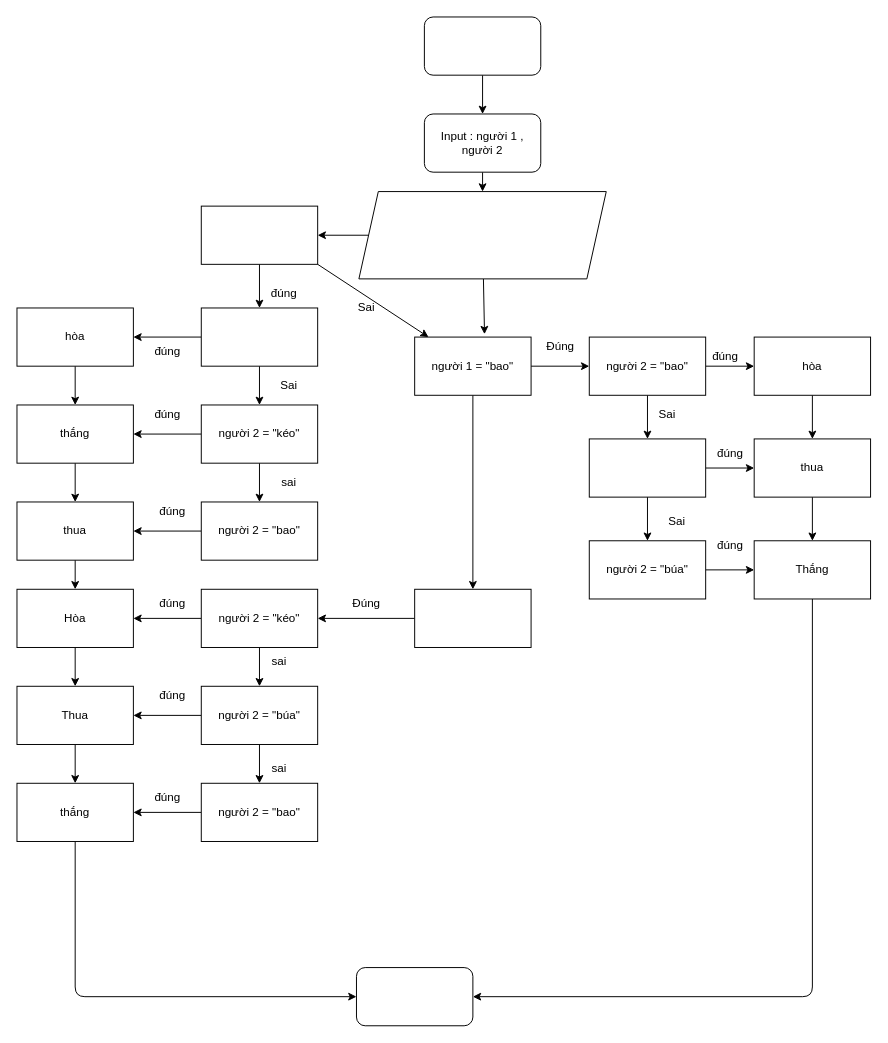
Image size: 888x1043. Some labels were removed from this diagram. The shapes that lost their labels are listed below. From the top down, each one's box as (x1, y1, x2, y2) in pixels, then its label:
(423, 16, 541, 75): STATR
(200, 205, 318, 264): người 1 = "đấm"
(358, 191, 606, 279): Kéo > bao, kéo = kéo bao > búa, bao =bao búa > kéo, búa = búa
(200, 307, 318, 366): người 2 = "đấm"
(588, 438, 706, 497): người 2 = "keo"
(414, 588, 531, 647): người 1 = "kéo"
(356, 967, 473, 1026): END
